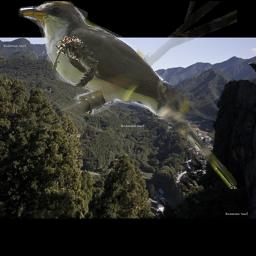Cuckoo: (18, 1, 237, 189)
